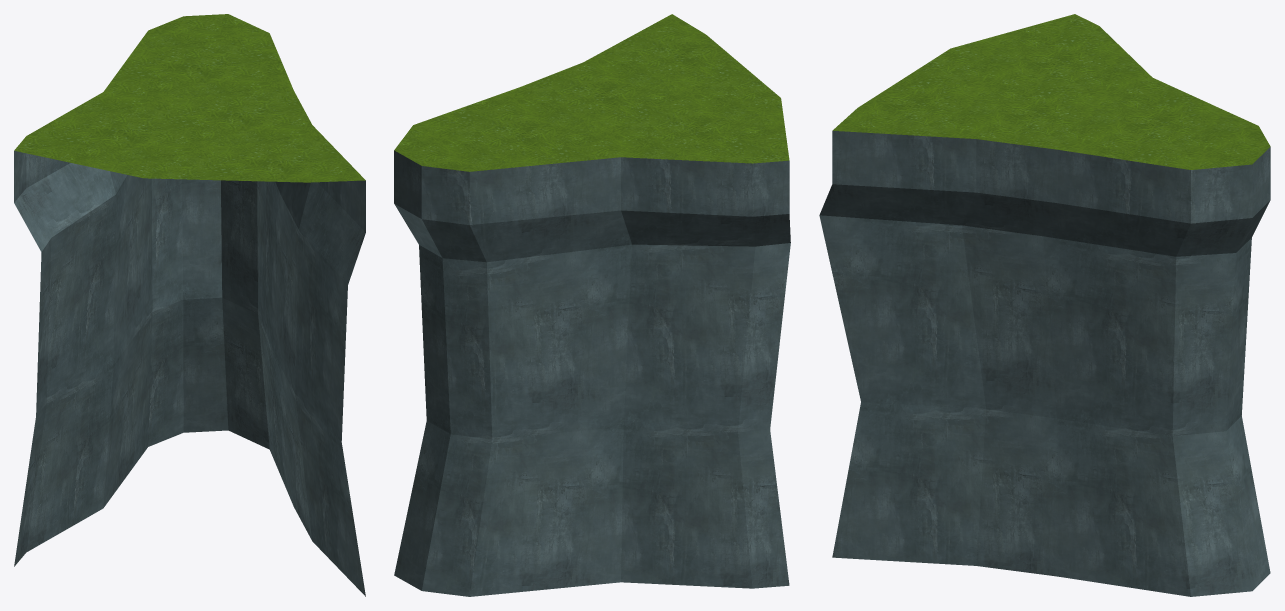
Rendered from IslandTower_5.fbx.
3 views of the same model, side by side, from view 1: azimuth 30°, elevation 25°; view 2: azimuth 150°, elevation 25°; view 3: azimuth 270°, elevation 25° (orthographic). The views are drawn at different scales.
Visible parts, largest first — view 1: pPlane5; view 2: pPlane5; view 3: pPlane5.
Part boxes in pixels (x1=…): pPlane5: x1=14, y1=14, x2=365, y2=596; pPlane5: x1=394, y1=14, x2=790, y2=596; pPlane5: x1=819, y1=14, x2=1270, y2=596.
Size of the model in its own units: 1.62 by 2.06 by 1.97.
